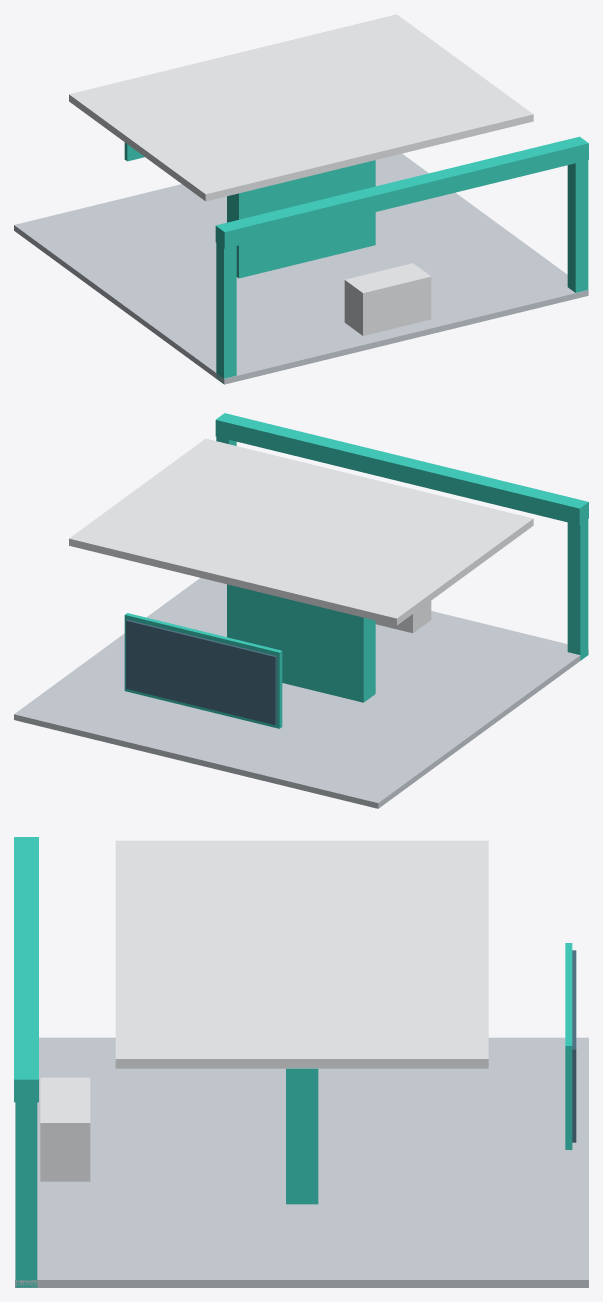
The picture shows the model from 3 angles, top to bottom: view 1: azimuth 30°, elevation 25°; view 2: azimuth 150°, elevation 25°; view 3: azimuth 270°, elevation 25°; orthographic projection. The views are drawn at different scales.
Visible parts, largest first — view 1: Exhibition Booth Concept; view 2: Exhibition Booth Concept; view 3: Exhibition Booth Concept.
Boxes of the visible parts, left/top/right/bottom form: Exhibition Booth Concept: left=14, top=14, right=588, bottom=384; Exhibition Booth Concept: left=14, top=413, right=588, bottom=808; Exhibition Booth Concept: left=14, top=837, right=588, bottom=1287.
Size of the model in its own units: 8 by 3.34 by 8.01.
